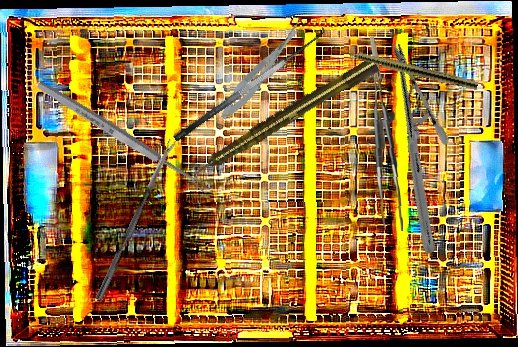Handpiece: (187, 55, 381, 183), (329, 42, 480, 92)
Micro Scissor: (214, 18, 310, 124)
Needle Holder: (312, 41, 515, 256)
Spatula Surgical: (164, 19, 331, 143)
Surgical Spoon: (35, 78, 212, 196), (95, 138, 177, 302)
Tissue Forceps: (363, 37, 410, 231)
